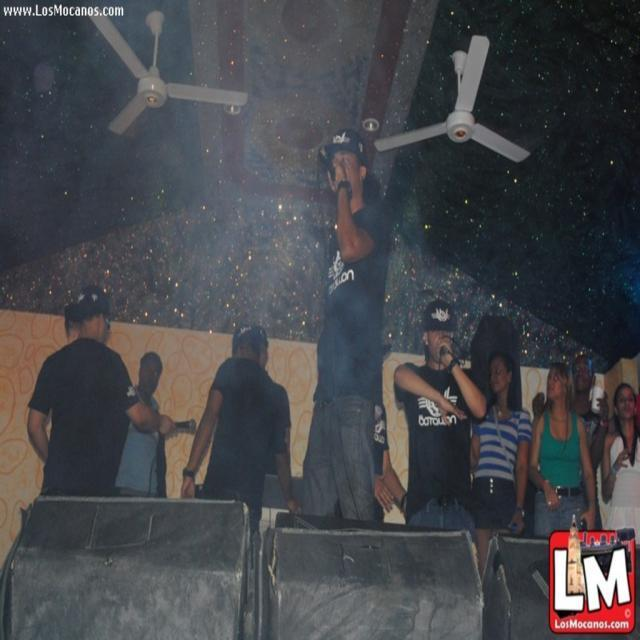fan_off: (376, 32, 528, 165), (87, 10, 249, 130)
